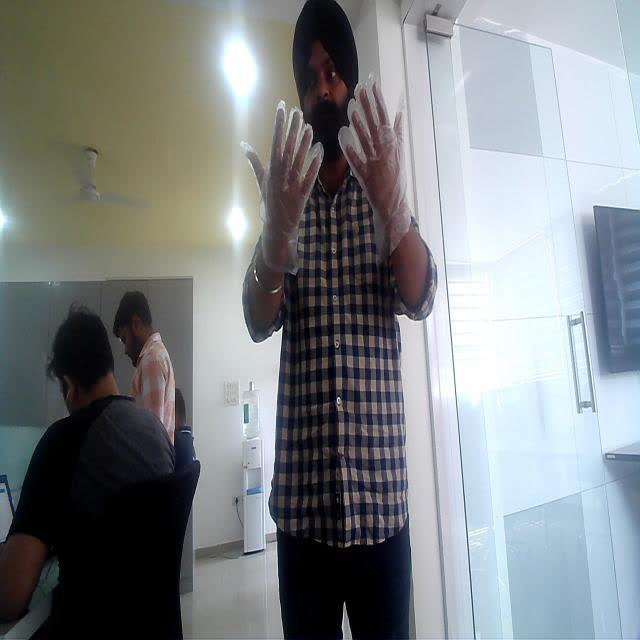with_gloves: (242, 94, 325, 286), (338, 67, 412, 259)
